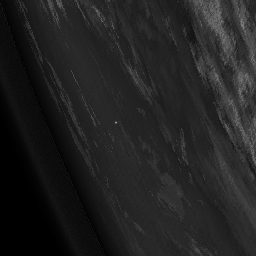Target: (113, 120, 118, 125)
